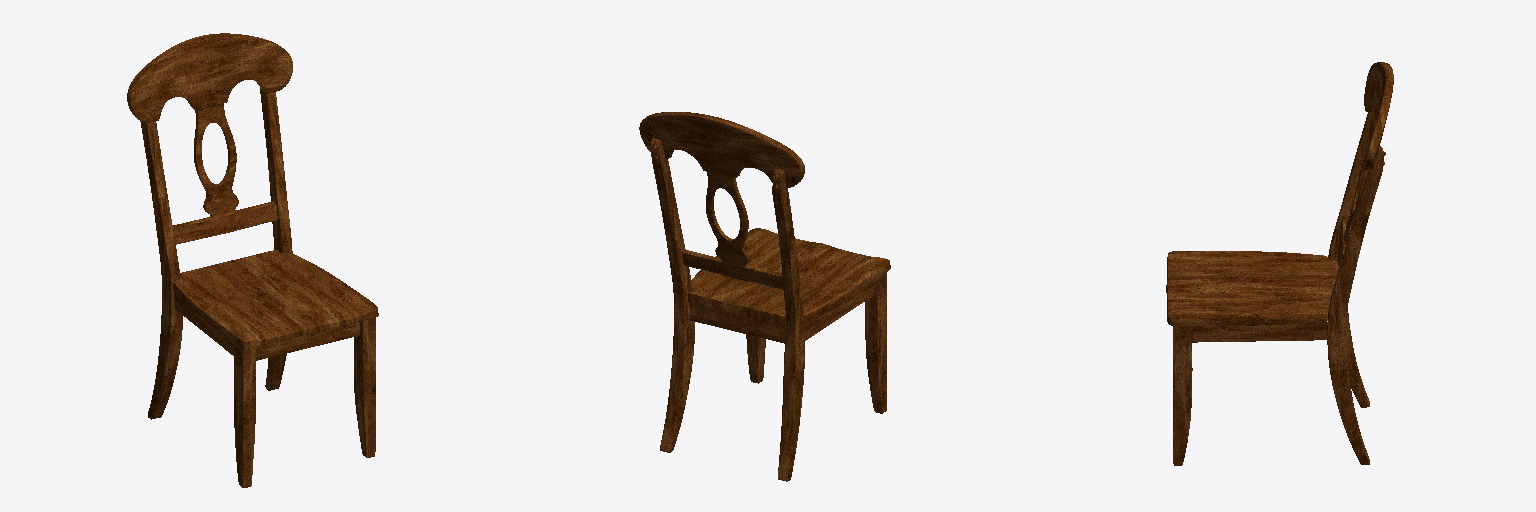
3 renders of one model, left to right at view 1: azimuth 30°, elevation 25°; view 2: azimuth 150°, elevation 25°; view 3: azimuth 270°, elevation 25°, orthographic.
Parts seen in each view (by area): view 1: not_clear_obj_0_v6; view 2: not_clear_obj_0_v6; view 3: not_clear_obj_0_v6.
Boxes of the visible parts, x1=… form: not_clear_obj_0_v6: x1=127, y1=33, x2=378, y2=487; not_clear_obj_0_v6: x1=639, y1=112, x2=890, y2=481; not_clear_obj_0_v6: x1=1166, y1=62, x2=1393, y2=465.
Size of the model in its own units: 47.56 by 99.92 by 57.79.
Materials: 2 (2 with a texture image).